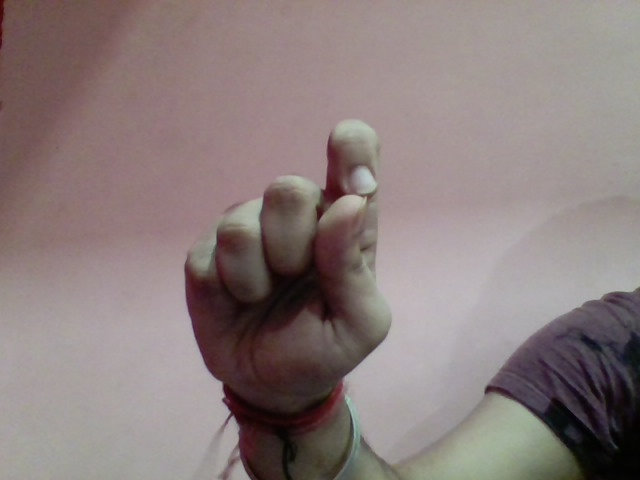t: (170, 113, 409, 393)
